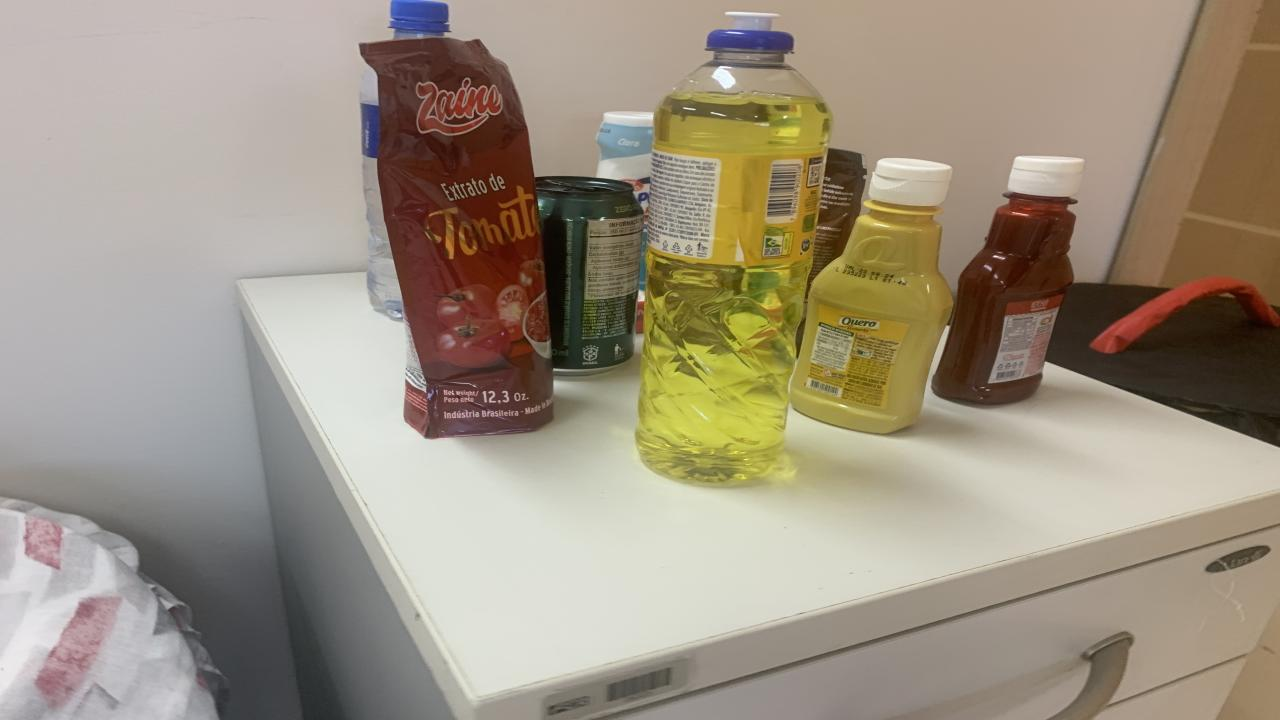Cleaner-Cleanup_Items: (598, 112, 655, 221)
Coffee-Pantry_Items: (808, 148, 868, 283)
Detergent-Cleanup_Items: (635, 13, 832, 484)
Guarana_Can-Drinks: (535, 176, 642, 375)
Ketchup-Pantry_Items: (932, 156, 1085, 403)
Mustard-Pantry_Items: (790, 158, 952, 433)
Tomato_Sauce-Pantry_Items: (360, 38, 552, 439)
Water_Bottle-Drinks: (360, 68, 402, 321), (390, 0, 448, 39)
